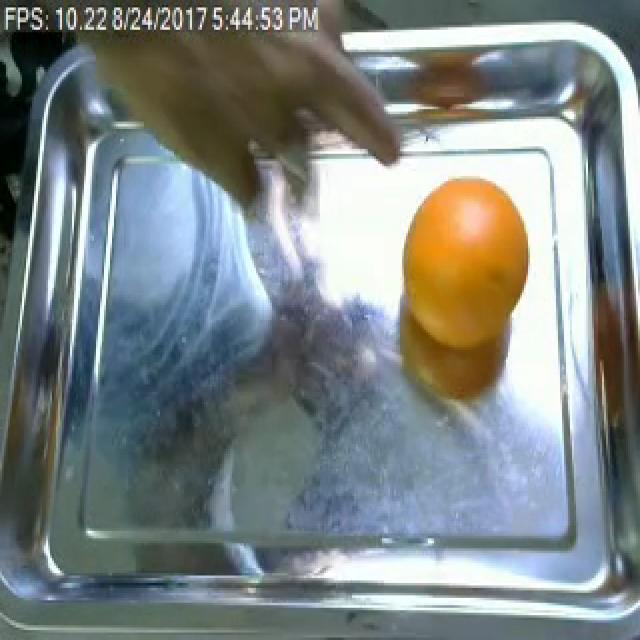Fruit: (392, 176, 536, 407)
